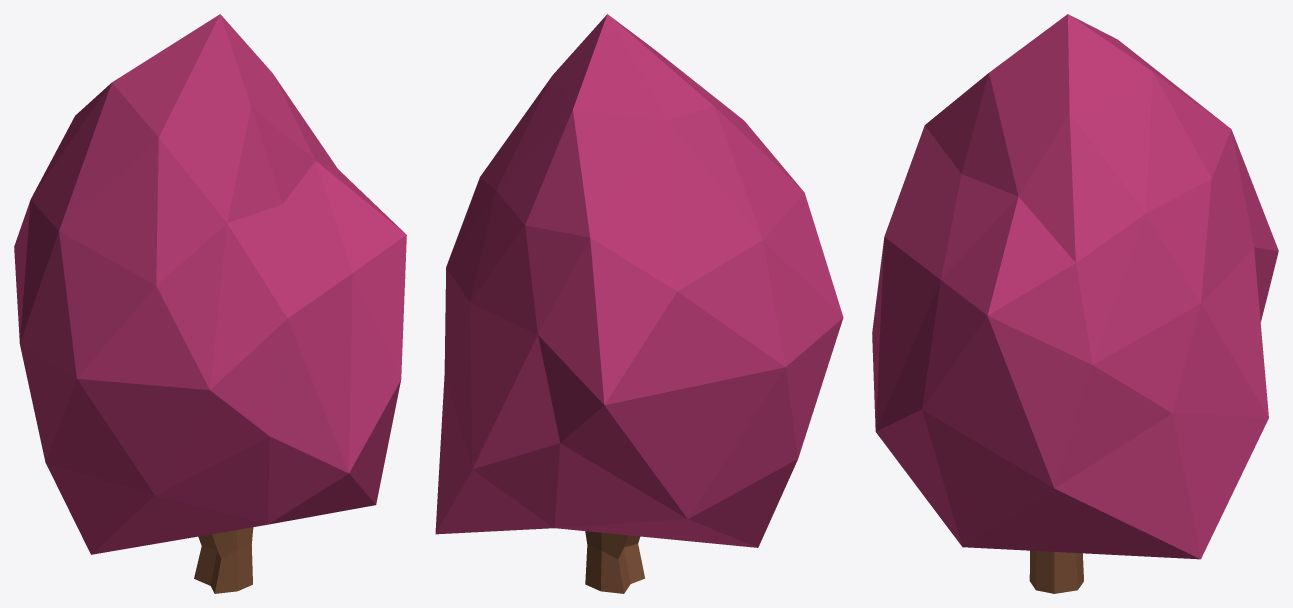
File: Tree_55_Pink.fbx
3 renders of one model, left to right at view 1: azimuth 30°, elevation 25°; view 2: azimuth 150°, elevation 25°; view 3: azimuth 270°, elevation 25°, orthographic.
Parts seen in each view (by area): view 1: Tree_55_Pink_Part_1, Tree_55_Pink_Part_2; view 2: Tree_55_Pink_Part_1, Tree_55_Pink_Part_2; view 3: Tree_55_Pink_Part_1, Tree_55_Pink_Part_2.
Boxes of the visible parts, box(x1,y1,x2,y2) form: Tree_55_Pink_Part_1: box(14, 14, 406, 554); Tree_55_Pink_Part_2: box(194, 527, 253, 593); Tree_55_Pink_Part_1: box(435, 14, 843, 547); Tree_55_Pink_Part_2: box(585, 531, 644, 593); Tree_55_Pink_Part_1: box(872, 14, 1278, 559); Tree_55_Pink_Part_2: box(1029, 550, 1083, 593).
Size of the model in its own units: 515 by 795 by 516.
